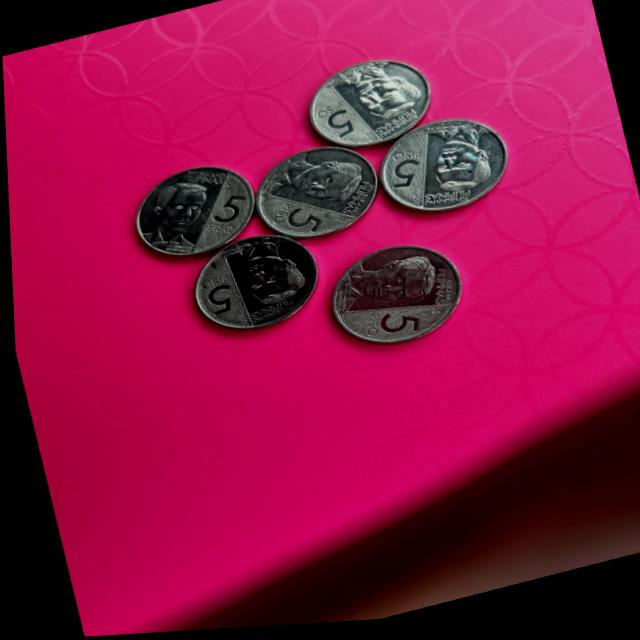5_New_Front: (191, 265, 253, 333), (273, 183, 335, 244), (370, 143, 431, 205), (368, 300, 429, 353), (309, 99, 360, 150), (202, 187, 246, 242)
